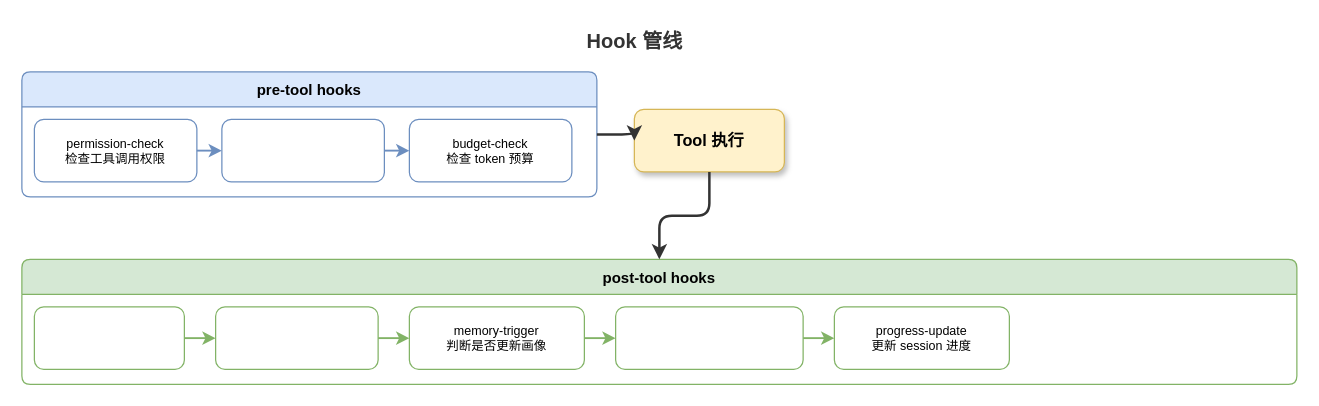
Image size: 1319x406. Some labels were removed from this diagram. Each missing label, with the centre of its shape:
"audit-log 记录调用日志" goes at point 108,337.
"input-sanitize 过滤敏感信息" goes at point 302,150.
"metric-emit 记录延迟/token/错误率" goes at point 708,337.
"result-compress 压缩工具输出" goes at point 296,337.
